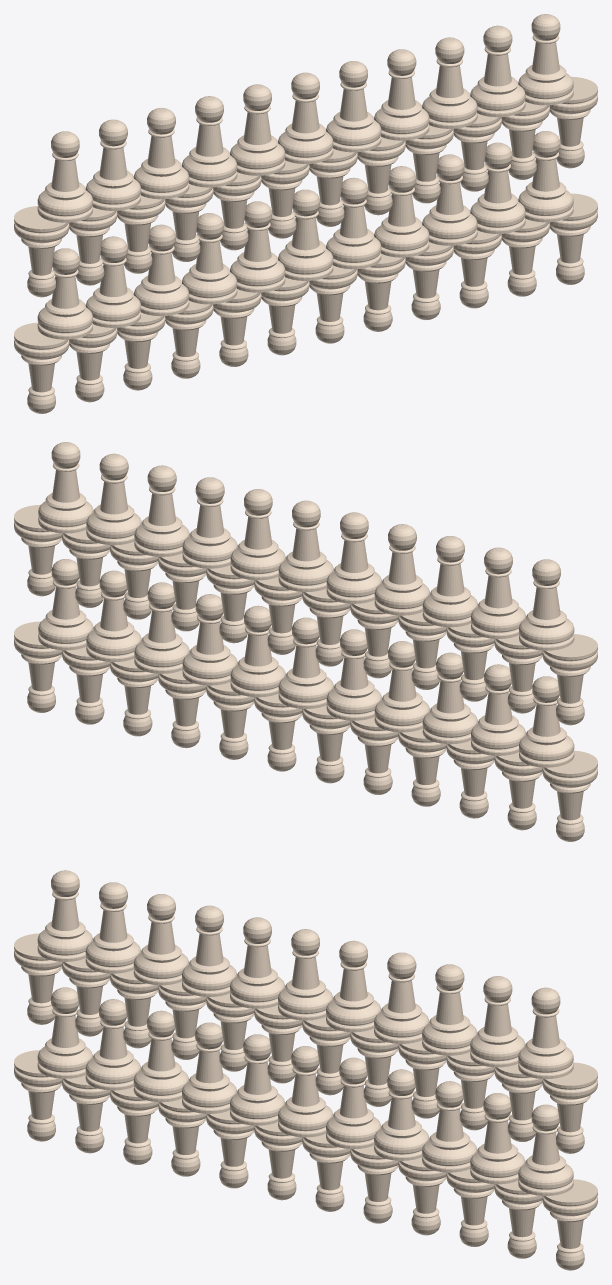
File: pawn wall.fbx
3 views of the same model, one above another, from view 1: azimuth 30°, elevation 25°; view 2: azimuth 150°, elevation 25°; view 3: azimuth 330°, elevation 25° (orthographic).
Parts seen in each view (by area): view 1: pawn wall_1, pawn wall_2; view 2: pawn wall_1, pawn wall_2; view 3: pawn wall_2, pawn wall_1.
Part boxes in pixels (<box>): pawn wall_1: <box>14,14,597,297</box>; pawn wall_2: <box>14,131,597,413</box>; pawn wall_1: <box>14,442,597,725</box>; pawn wall_2: <box>14,559,597,841</box>; pawn wall_2: <box>14,987,597,1270</box>; pawn wall_1: <box>14,870,597,1153</box>.
Bounding box in the file's own units: 2400 × 1082 × 200.
